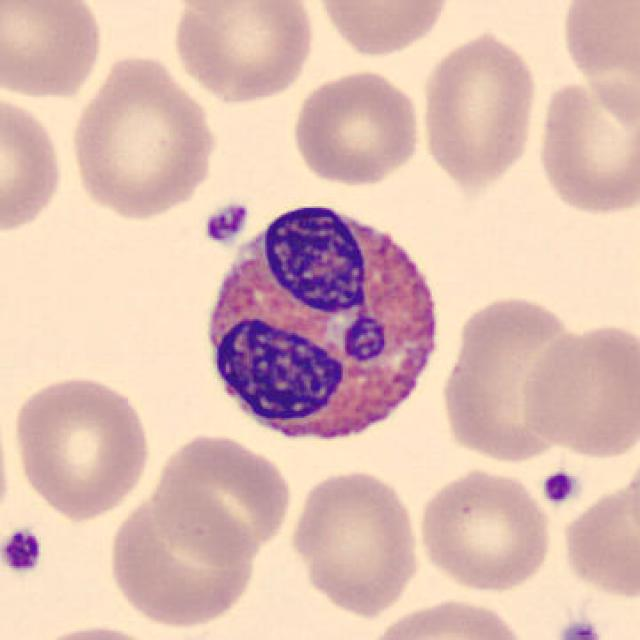Eosinophil: (192, 185, 453, 462)
Platelets: (199, 197, 253, 247), (0, 526, 46, 578), (539, 467, 581, 508), (553, 615, 604, 640)
RBC: (437, 289, 587, 466), (66, 51, 220, 222), (103, 488, 263, 630), (9, 370, 155, 522), (286, 465, 423, 619), (416, 27, 542, 192), (148, 428, 295, 562), (414, 464, 555, 594), (516, 319, 638, 460), (288, 67, 425, 189), (167, 0, 318, 106), (532, 74, 638, 219), (556, 464, 640, 603), (0, 0, 107, 104), (0, 90, 68, 238), (556, 0, 638, 111), (311, 0, 453, 60), (363, 594, 533, 640), (21, 620, 172, 640)
